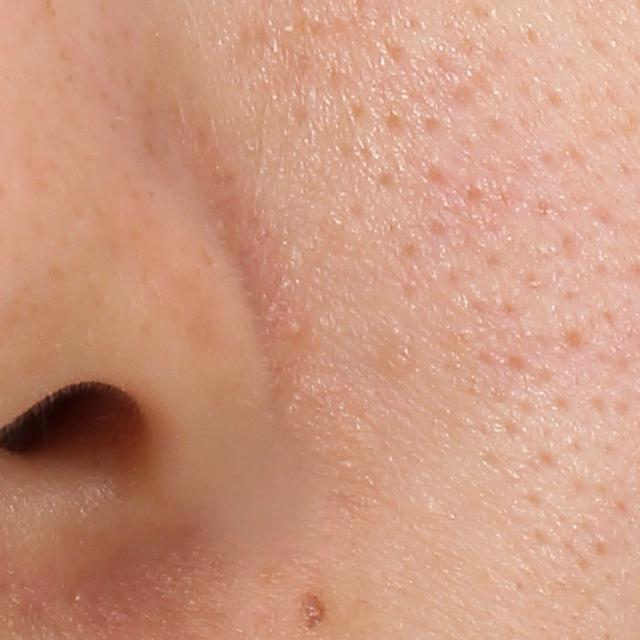nevus: (292, 590, 337, 635)
